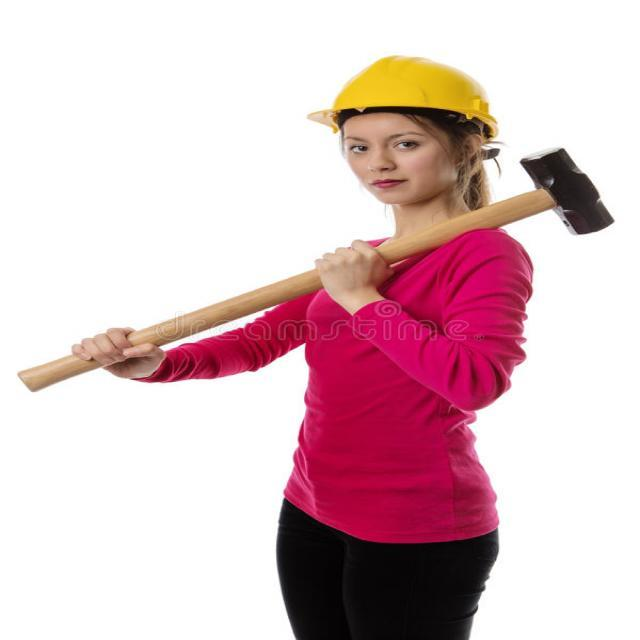hammer: (4, 141, 622, 392)
